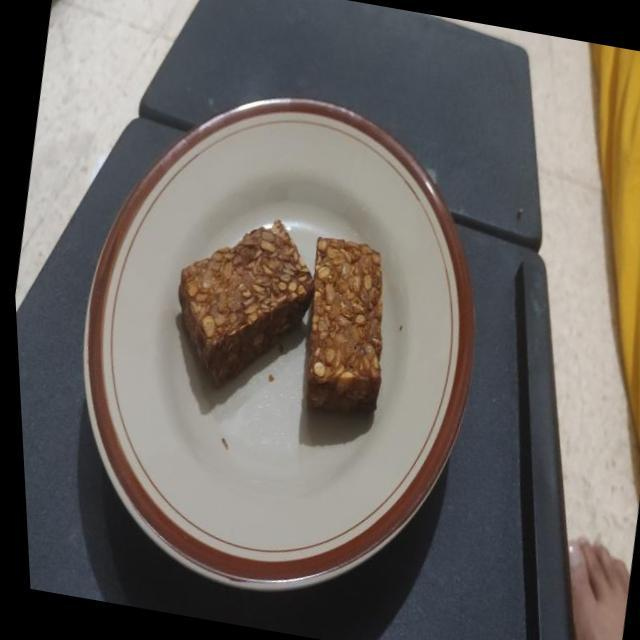tempe_goreng: (178, 220, 313, 384), (308, 237, 382, 408)
